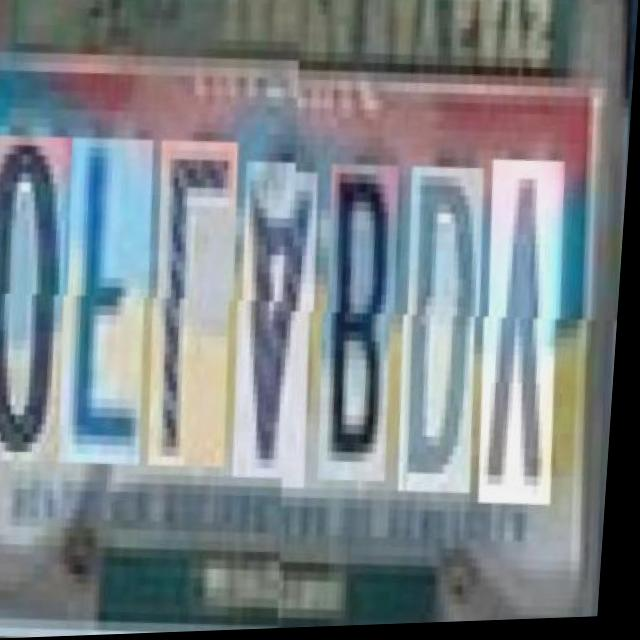a: (237, 157, 334, 479)
b: (322, 149, 416, 471)
d: (402, 150, 501, 483)
f: (62, 133, 170, 465)
l: (150, 136, 254, 468)
o: (0, 131, 88, 464)
v: (482, 143, 582, 493)
